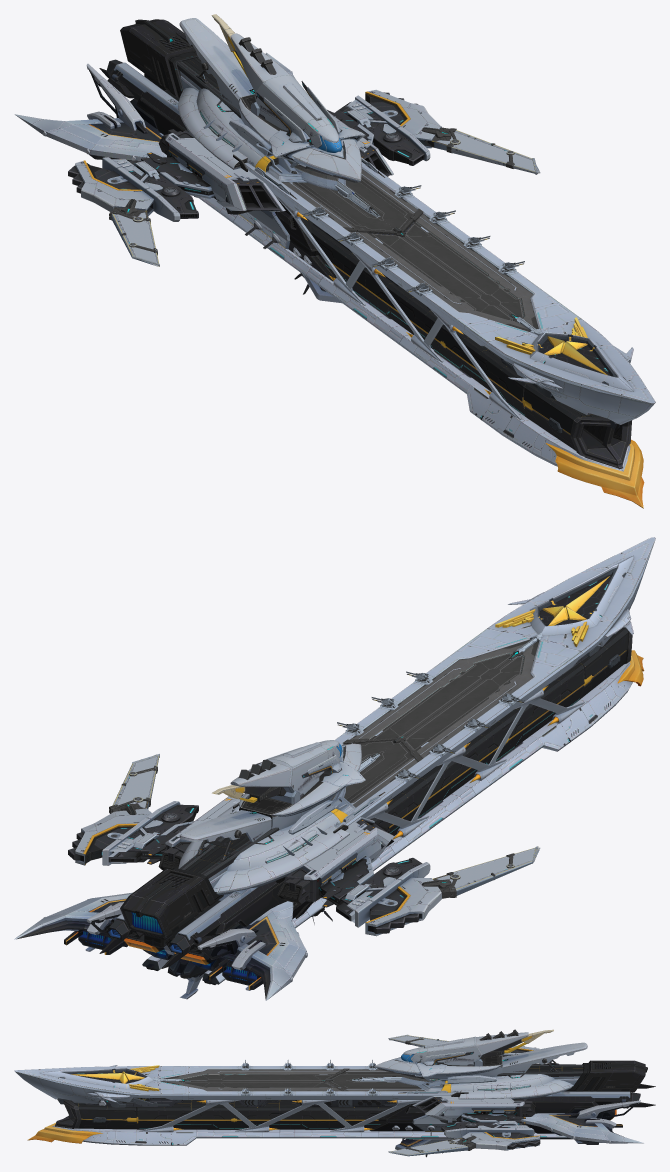
Rendered from Stage_Hyperion_Spaceship_Wing.fbx.
3 views of the same model, one above another, from view 1: azimuth 30°, elevation 25°; view 2: azimuth 150°, elevation 25°; view 3: azimuth 270°, elevation 25° (orthographic). The views are drawn at different scales.
Visible parts, largest first — view 1: Stage_Hyperion_C04, Stage_Hyperion_C03, Stage_Hyperion_C01, Stage_Hyperion_C06, Stage_Hyperion_C05, Stage_Hyperion_C02, Stage_Hyperion_C03_Floor01, Stage_Hyperion_C06_Left, master_wing, Stage_Hyperion_C12, wing_right, Stage_Hyperion_C08 (+1 smaller); view 2: Stage_Hyperion_C04, Stage_Hyperion_C03, Stage_Hyperion_C05, Stage_Hyperion_C01, Stage_Hyperion_C06, Stage_Hyperion_C02, Stage_Hyperion_C03_Floor01, Stage_Hyperion_C06_Left, master_wing, Stage_Hyperion_C12, wing_right, Stage_Hyperion_C08 (+2 smaller); view 3: Stage_Hyperion_C04, Stage_Hyperion_C03, Stage_Hyperion_C01, Stage_Hyperion_C02, Stage_Hyperion_C05, Stage_Hyperion_C03_Floor01, Stage_Hyperion_C06, Stage_Hyperion_C06_Left, master_wing, Stage_Hyperion_C12, Stage_Hyperion_C09, Stage_Hyperion_C04_Floor01 (+4 smaller).
Boxes of the visible parts, left/top/right/bottom form: Stage_Hyperion_C04: left=197, top=197, right=633, bottom=471; Stage_Hyperion_C03: left=244, top=162, right=655, bottom=424; Stage_Hyperion_C01: left=178, top=14, right=385, bottom=199; Stage_Hyperion_C06: left=68, top=112, right=393, bottom=266; Stage_Hyperion_C05: left=14, top=52, right=644, bottom=508; Stage_Hyperion_C02: left=99, top=18, right=552, bottom=397; Stage_Hyperion_C03_Floor01: left=294, top=177, right=523, bottom=320; Stage_Hyperion_C06_Left: left=334, top=89, right=540, bottom=173; master_wing: left=327, top=93, right=440, bottom=165; Stage_Hyperion_C12: left=302, top=181, right=541, bottom=335; wing_right: left=109, top=127, right=538, bottom=266; Stage_Hyperion_C08: left=165, top=47, right=241, bottom=118; Stage_Hyperion_C04: left=142, top=555, right=636, bottom=984; Stage_Hyperion_C03: left=335, top=537, right=655, bottom=827; Stage_Hyperion_C05: left=14, top=650, right=644, bottom=1000; Stage_Hyperion_C01: left=178, top=740, right=385, bottom=900; Stage_Hyperion_C06: left=158, top=794, right=540, bottom=936; Stage_Hyperion_C02: left=99, top=646, right=599, bottom=968; Stage_Hyperion_C03_Floor01: left=344, top=653, right=523, bottom=802; Stage_Hyperion_C06_Left: left=68, top=754, right=197, bottom=865; master_wing: left=75, top=803, right=198, bottom=865; Stage_Hyperion_C12: left=337, top=633, right=542, bottom=782; wing_right: left=109, top=754, right=538, bottom=898; Stage_Hyperion_C08: left=171, top=807, right=279, bottom=902; Stage_Hyperion_C04: left=40, top=1065, right=569, bottom=1145; Stage_Hyperion_C03: left=14, top=1065, right=455, bottom=1104; Stage_Hyperion_C01: left=374, top=1029, right=573, bottom=1099; Stage_Hyperion_C02: left=106, top=1042, right=655, bottom=1133; Stage_Hyperion_C05: left=27, top=1100, right=643, bottom=1157; Stage_Hyperion_C03_Floor01: left=182, top=1072, right=420, bottom=1088; Stage_Hyperion_C06: left=392, top=1036, right=539, bottom=1124; Stage_Hyperion_C06_Left: left=389, top=1114, right=540, bottom=1156; master_wing: left=441, top=1113, right=540, bottom=1150; Stage_Hyperion_C12: left=152, top=1060, right=401, bottom=1096; Stage_Hyperion_C09: left=83, top=1098, right=396, bottom=1106; Stage_Hyperion_C04_Floor01: left=164, top=1100, right=321, bottom=1108.
Size of what is drawn, in the model's own units: 866 by 413 by 1950.
